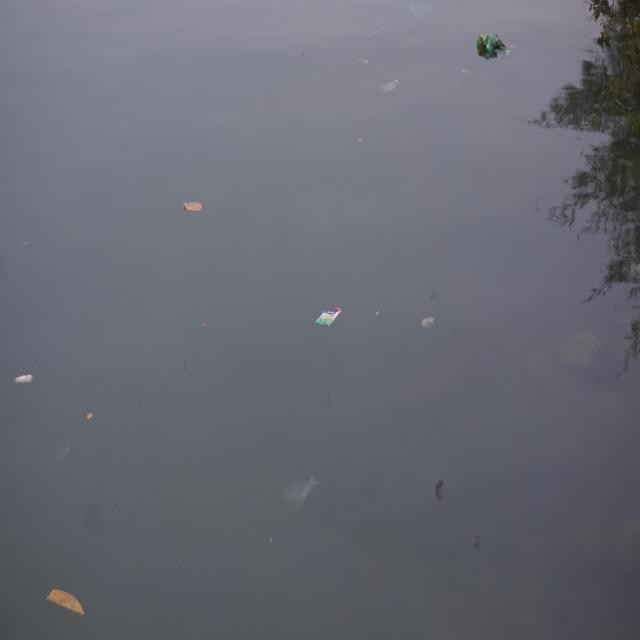Bungkus Makanan: (313, 298, 344, 338)
Kantong Plastik: (284, 468, 323, 521), (470, 25, 513, 67)
